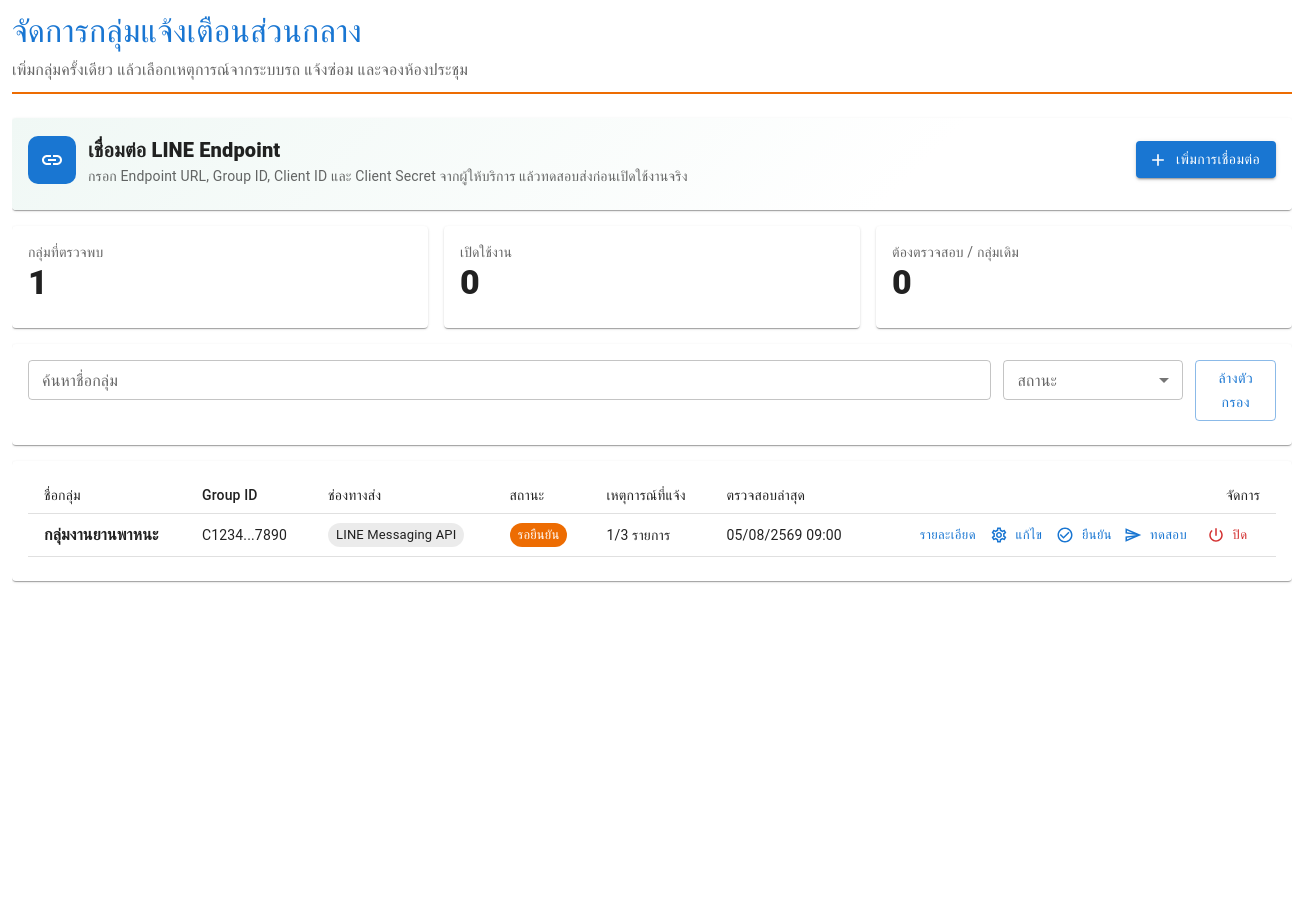
FleetLineGroupsPage › shows the pending approval digest as a separate opt-in event
This screenshot has width=1292, height=912.
Click the button "รายละเอียด": (948, 535) [915, 520, 981, 550]
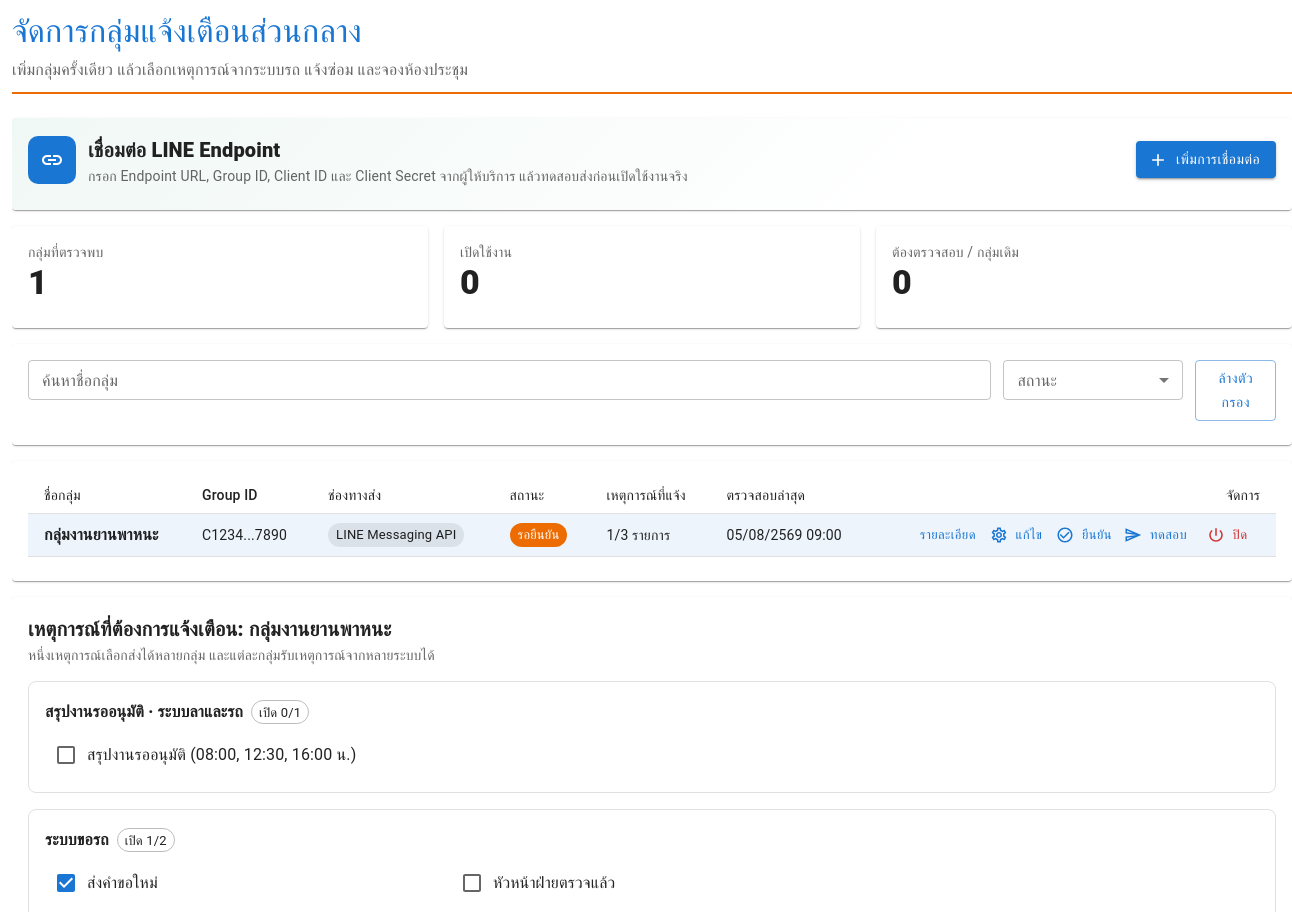
Now the checkbox labelled "สรุปงานรออนุมัติ (08:00, 12:30, 16:00 น.)" is not checked, box [54, 743, 356, 767]
